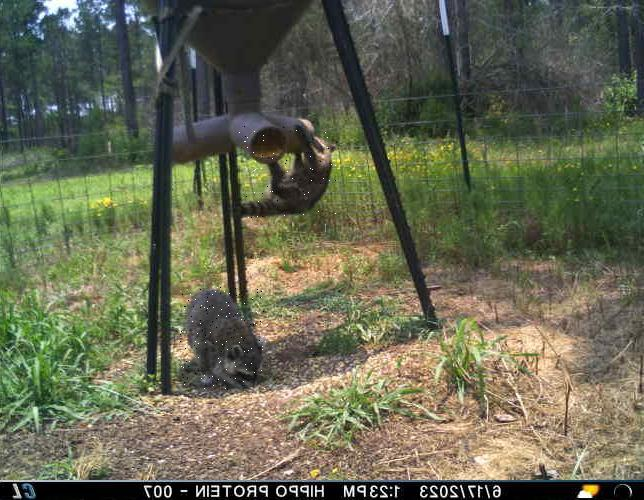Raccoon: (238, 126, 336, 218), (180, 287, 266, 391)
